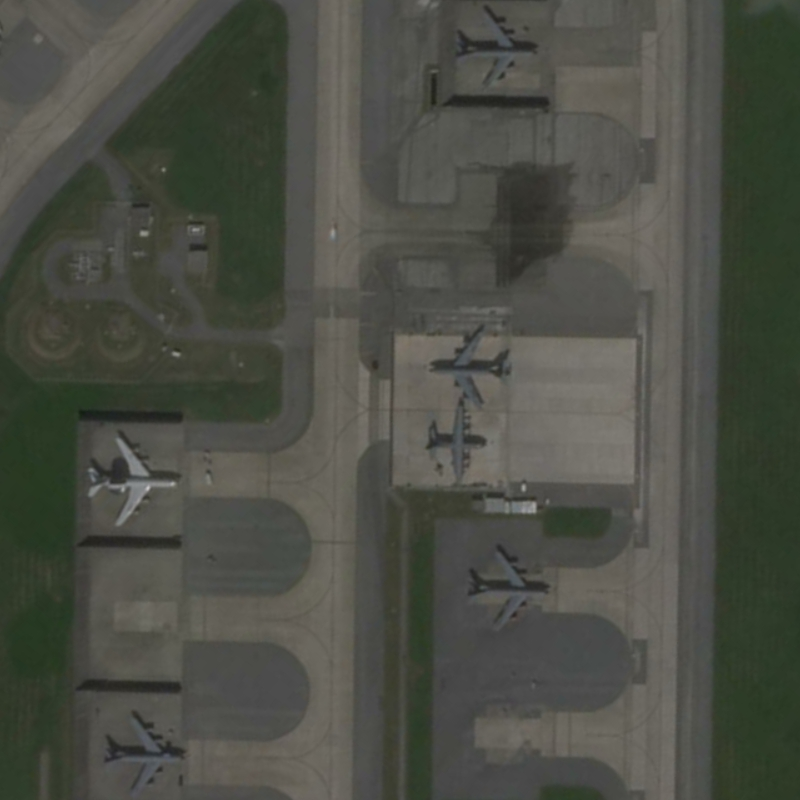A14: (459, 535, 553, 639), (93, 702, 192, 800), (421, 317, 522, 411), (451, 2, 544, 96)
A2: (422, 397, 489, 489)
A7: (81, 423, 184, 534)
